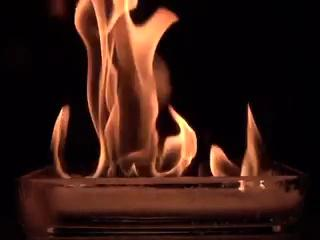Fire: (120, 1, 248, 180)
